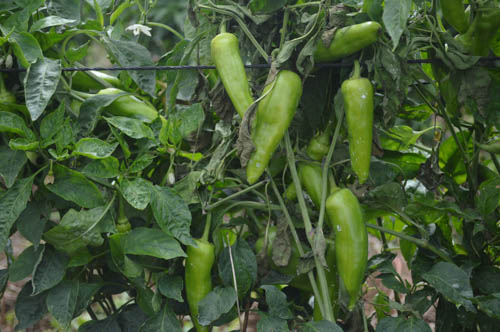ChiliPepper: (244, 70, 302, 190), (329, 188, 369, 294), (213, 36, 254, 116), (345, 76, 374, 185), (283, 140, 329, 208), (314, 23, 384, 67), (184, 239, 217, 332), (103, 86, 158, 121), (299, 161, 329, 214)
